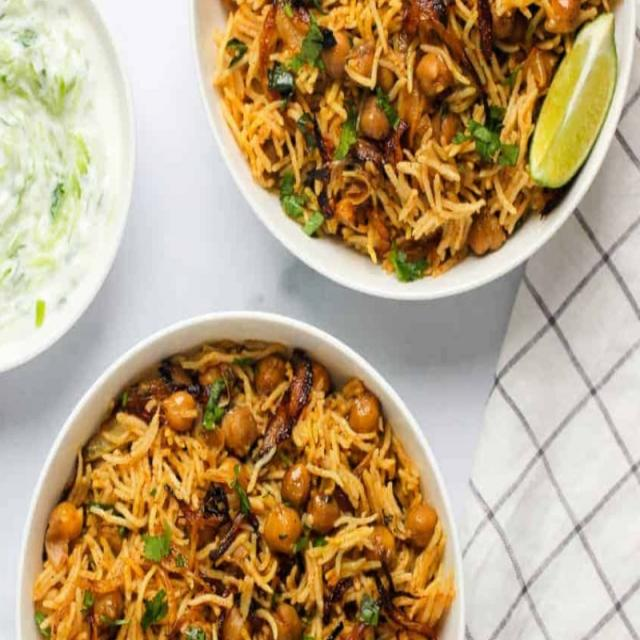Biryani: (200, 1, 640, 292), (29, 335, 450, 639)
